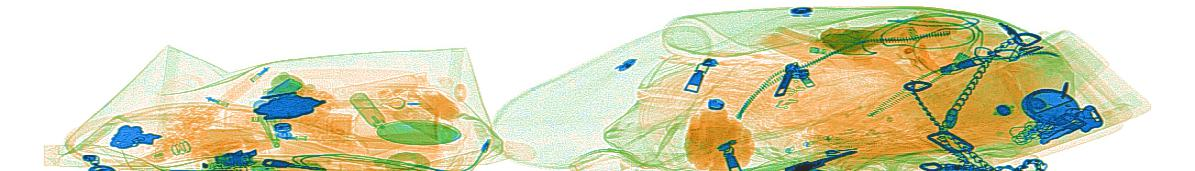plasticBottleWithaNozzle: (133, 109, 283, 168)
